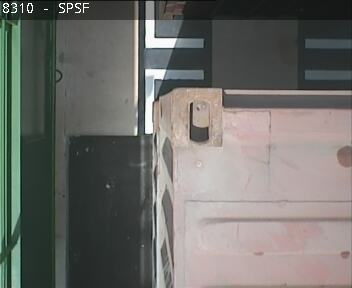groundmarker_1: (144, 1, 205, 134)
